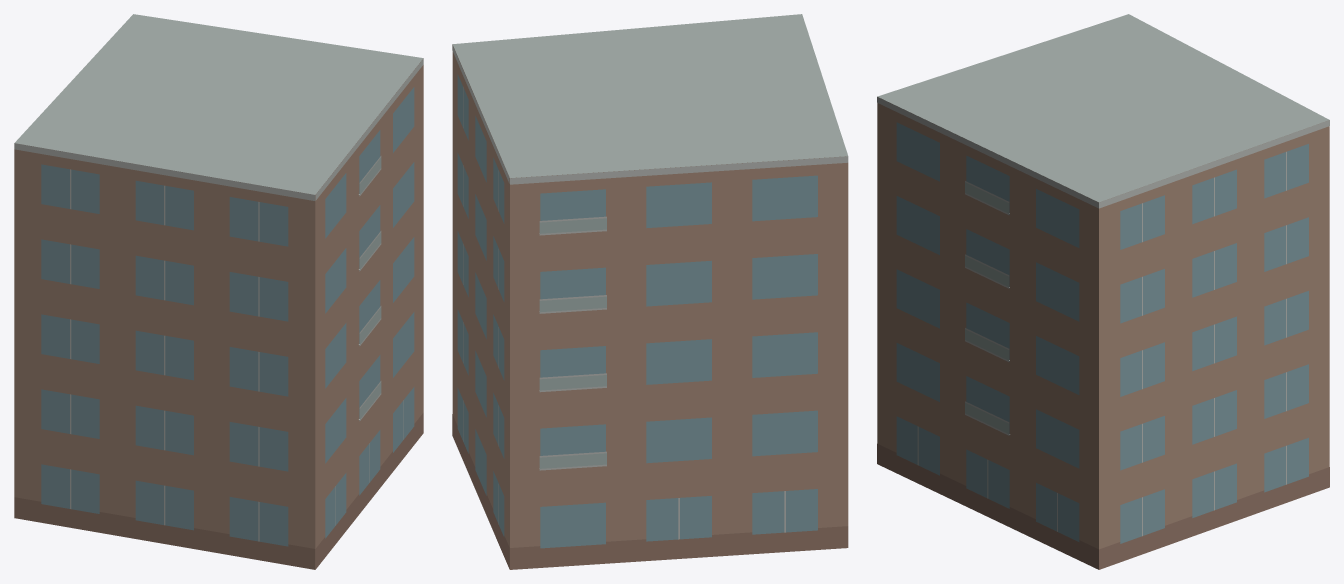
The model's file is survey-upis-32866287.glb.
The picture shows the model from 3 angles, left to right: view 1: azimuth 30°, elevation 25°; view 2: azimuth 150°, elevation 25°; view 3: azimuth 270°, elevation 25°; orthographic projection. The views are drawn at different scales.
Visible parts, largest first — view 1: survey-upis-32866287.tmp; view 2: survey-upis-32866287.tmp; view 3: survey-upis-32866287.tmp.
Part boxes in pixels (x1,y1,x2,y2): survey-upis-32866287.tmp: (14, 14, 423, 569); survey-upis-32866287.tmp: (452, 14, 848, 569); survey-upis-32866287.tmp: (877, 14, 1329, 569).
Size of the model in its own units: 16.07 by 14.6 by 16.31.
